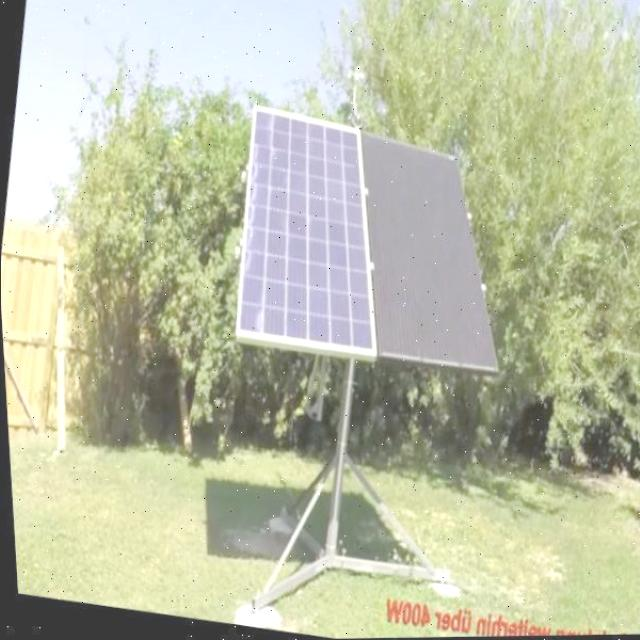Normal Solar Panel: (325, 130, 525, 377), (216, 106, 406, 363)
